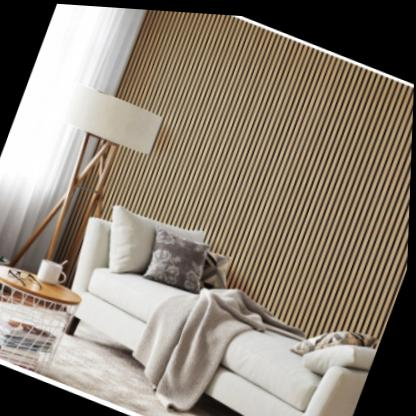Sofa: (35, 189, 397, 416)
Wall Panel: (67, 4, 416, 346)
